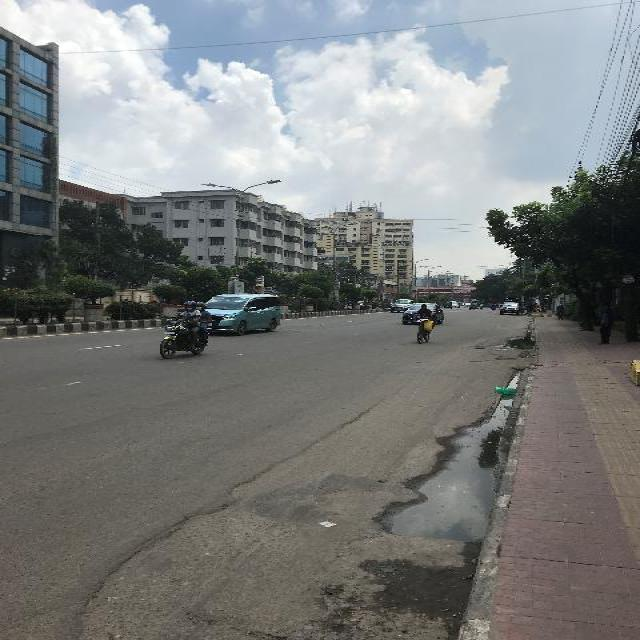10: (156, 300, 212, 358), (478, 302, 482, 308)
12: (500, 297, 520, 315)
15: (200, 292, 280, 336), (390, 298, 413, 312)
17: (470, 300, 478, 310), (442, 300, 450, 308)
5: (401, 302, 442, 324), (451, 301, 458, 307), (464, 302, 469, 308)
Motorcycle: (412, 303, 433, 343)
